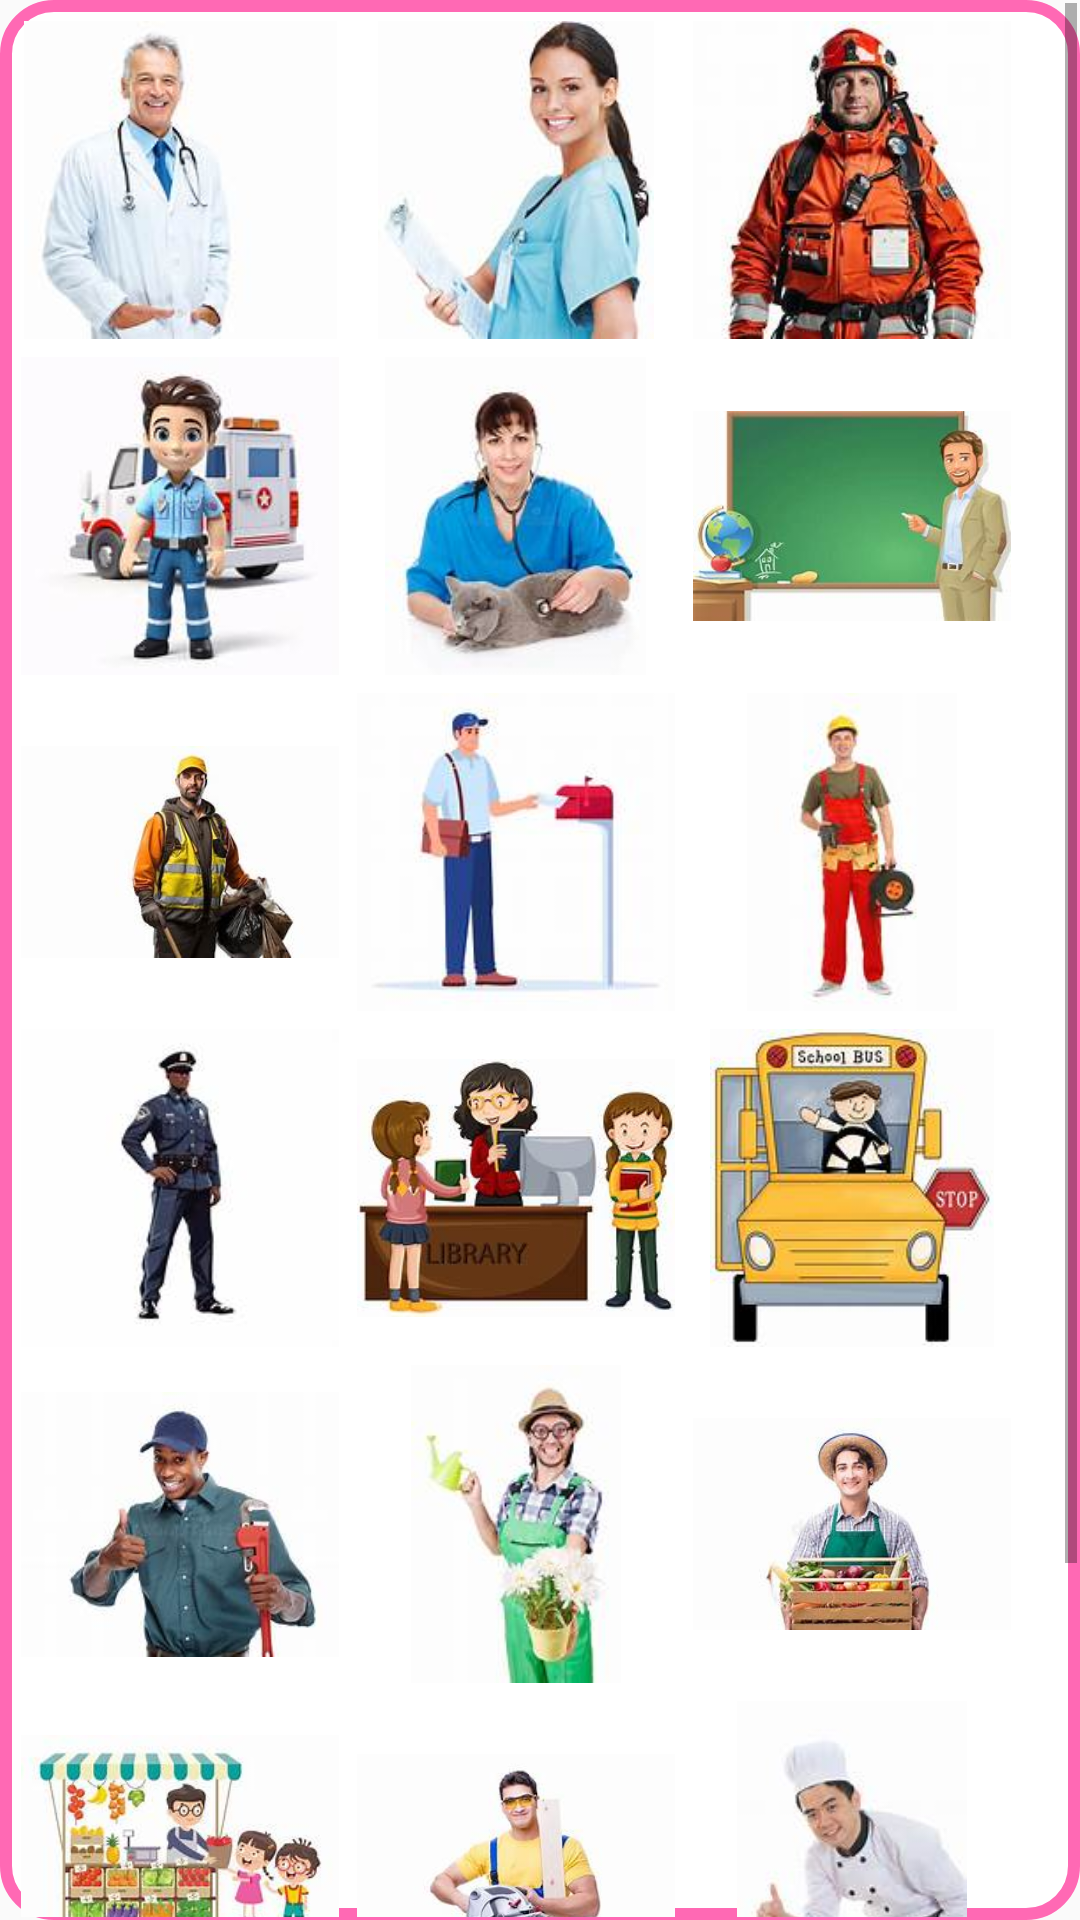

Locate icon controls on the screen. Image size 1080 × 1920, boxes as {"x1": x1, "y1": y1, "x2": x2, "y2": y2}.
Ambulance Driver: {"x1": 69, "y1": 375, "x2": 304, "y2": 661}
Doctor: {"x1": 42, "y1": 34, "x2": 230, "y2": 339}
Electrician: {"x1": 799, "y1": 713, "x2": 916, "y2": 997}
Farmer: {"x1": 766, "y1": 1433, "x2": 929, "y2": 1630}
Gardener: {"x1": 426, "y1": 1387, "x2": 602, "y2": 1683}
Librarian: {"x1": 359, "y1": 1061, "x2": 675, "y2": 1317}
Nurse: {"x1": 387, "y1": 21, "x2": 652, "y2": 339}
Paramedic: {"x1": 723, "y1": 21, "x2": 985, "y2": 339}
Plumber: {"x1": 69, "y1": 1411, "x2": 316, "y2": 1657}
Police Officer: {"x1": 121, "y1": 1050, "x2": 236, "y2": 1320}
Postal Worker: {"x1": 379, "y1": 709, "x2": 655, "y2": 991}
Sanitation Worker: {"x1": 131, "y1": 754, "x2": 293, "y2": 958}
School Bus Driver: {"x1": 710, "y1": 1029, "x2": 990, "y2": 1342}
Teacher: {"x1": 693, "y1": 411, "x2": 1011, "y2": 621}
Veterinarian: {"x1": 403, "y1": 391, "x2": 638, "y2": 654}
